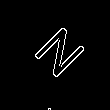N_SW: (20, 20, 84, 84)
